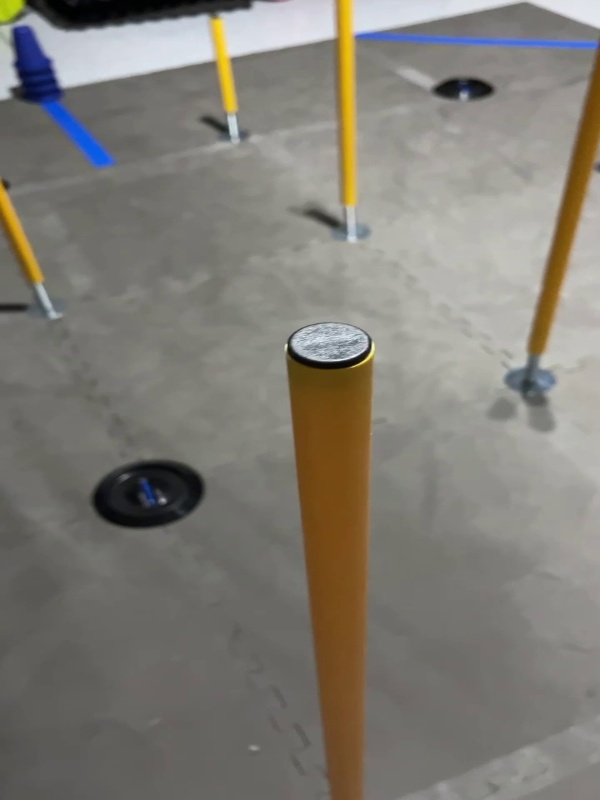top: (272, 318, 382, 377)
